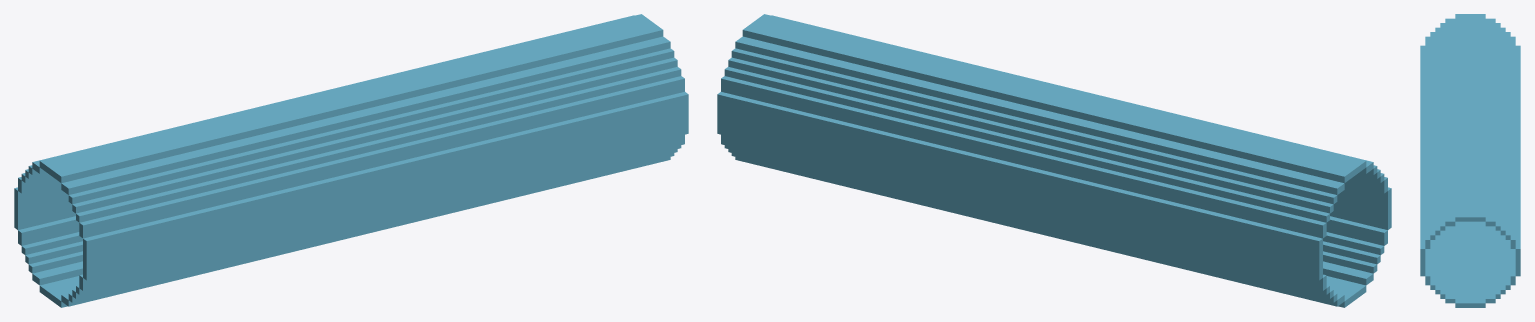
The model's file is Pipelength96.obj.
The picture shows the model from 3 angles, left to right: view 1: azimuth 30°, elevation 25°; view 2: azimuth 150°, elevation 25°; view 3: azimuth 270°, elevation 25°; orthographic projection. The views are drawn at different scales.
Bounding box in the file's own units: 96 × 20 × 20.
1 material, 1 textured.
